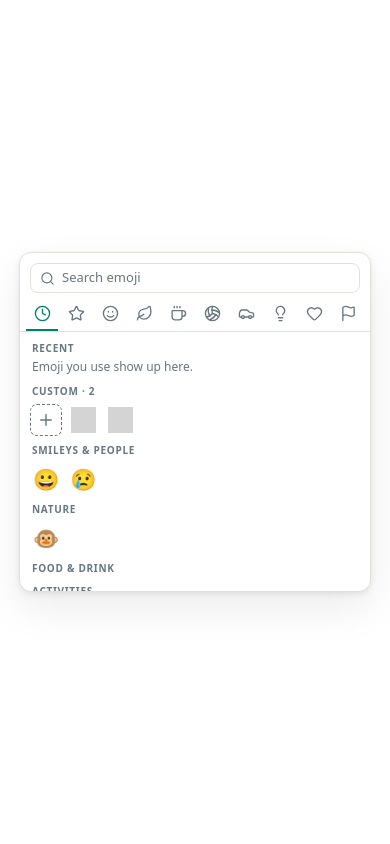
Test: EmojiPicker › "Add emoji" opens the photo picker inside the tap and the add sheet over the picker
Click the button named "Add emoji". click: (46, 420)
box: [30,404,62,436]
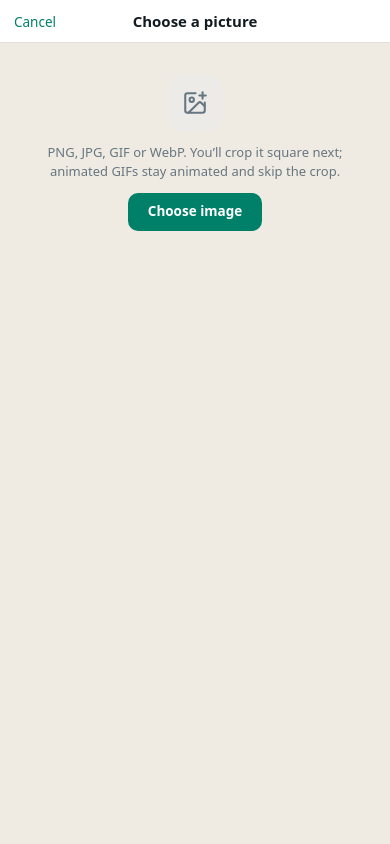
Now the dialog "Choose a picture" is shown
Note: Escape belongs to the add sheet: it closes, the picker stays.
Press Escape in the dialog "Choose a picture"
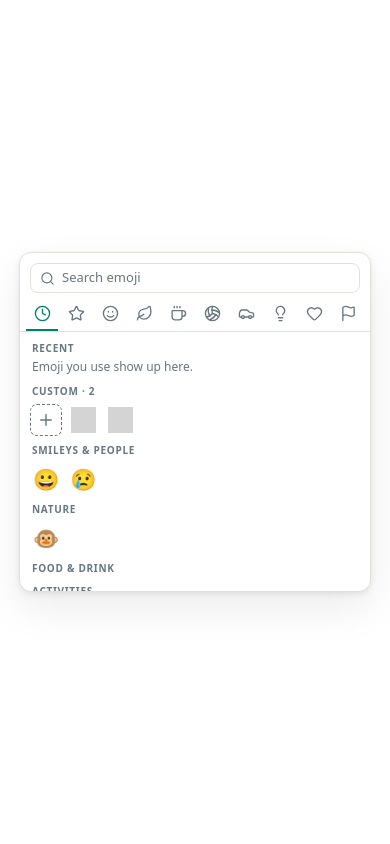
Expected: the dialog named "Emoji picker" is shown, [19,252,371,592]
Now the heading "Choose a picture" is gone
